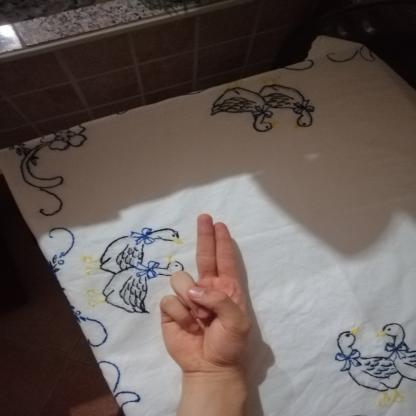TA: (146, 204, 274, 379)
